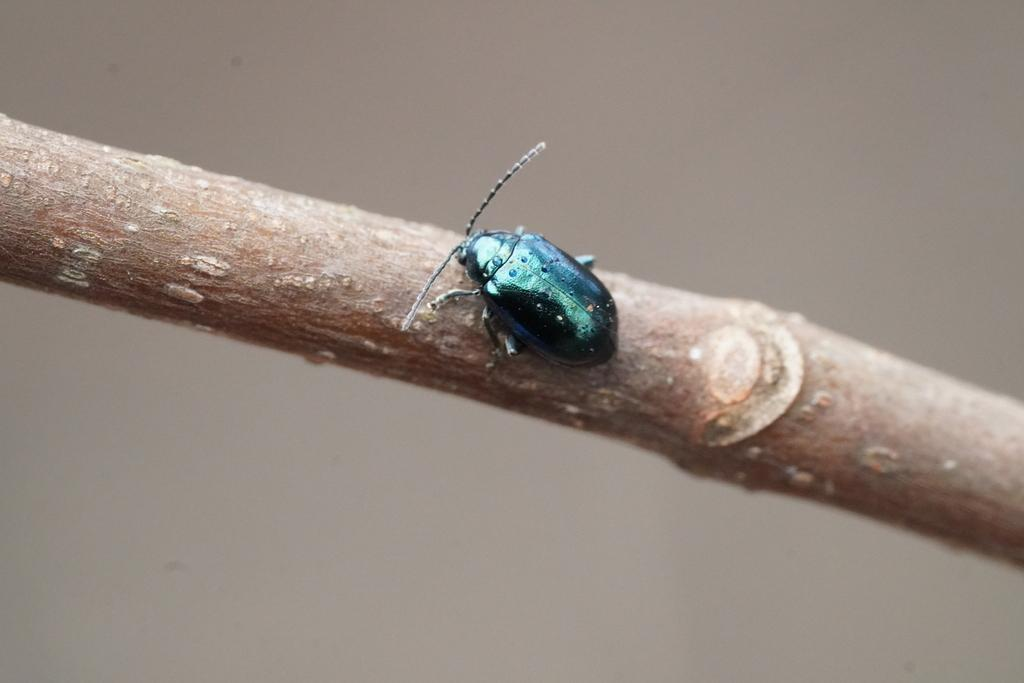flea_beetle: (369, 105, 697, 443)
